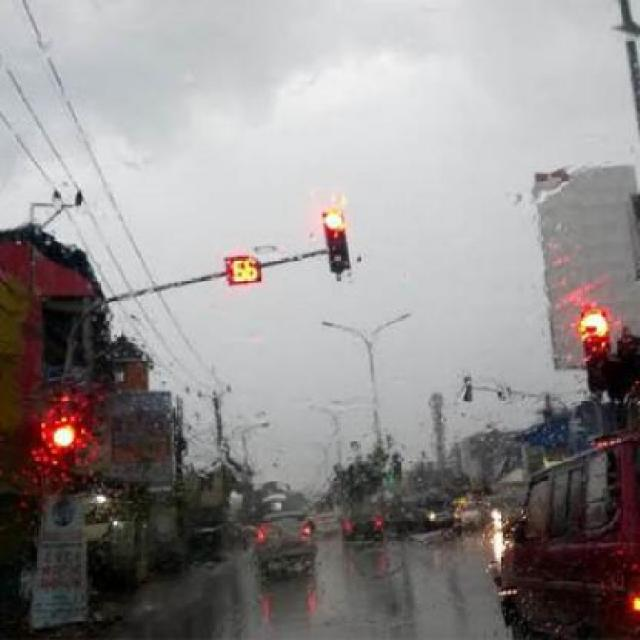traffic light: (576, 302, 620, 378), (322, 208, 351, 275)
